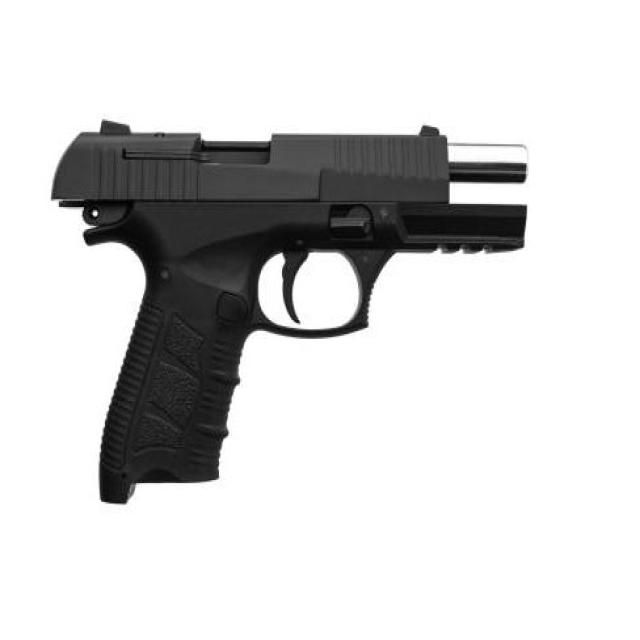pistol: (51, 119, 538, 522)
